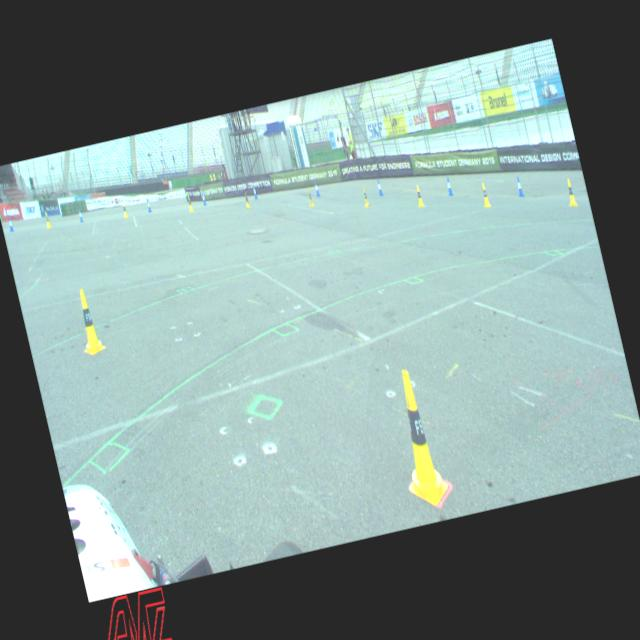blue_cone: (514, 175, 524, 198), (444, 176, 454, 196), (375, 179, 383, 196), (312, 180, 320, 197), (144, 197, 152, 212), (251, 183, 258, 200), (7, 216, 14, 232), (77, 207, 84, 222), (200, 190, 207, 204)
yellow_cone: (382, 366, 452, 510), (71, 286, 106, 356), (564, 177, 578, 207), (478, 181, 492, 207), (360, 185, 371, 207), (414, 184, 424, 208), (44, 210, 52, 229), (306, 188, 314, 206), (242, 192, 250, 210), (186, 194, 194, 212), (120, 202, 128, 218)
